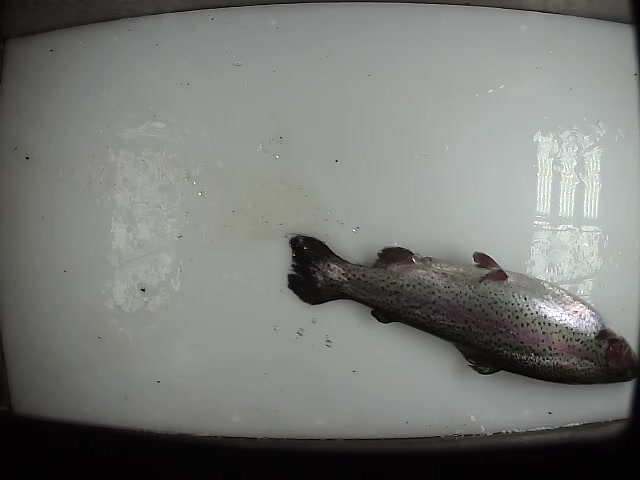fish: (282, 228, 640, 393)
